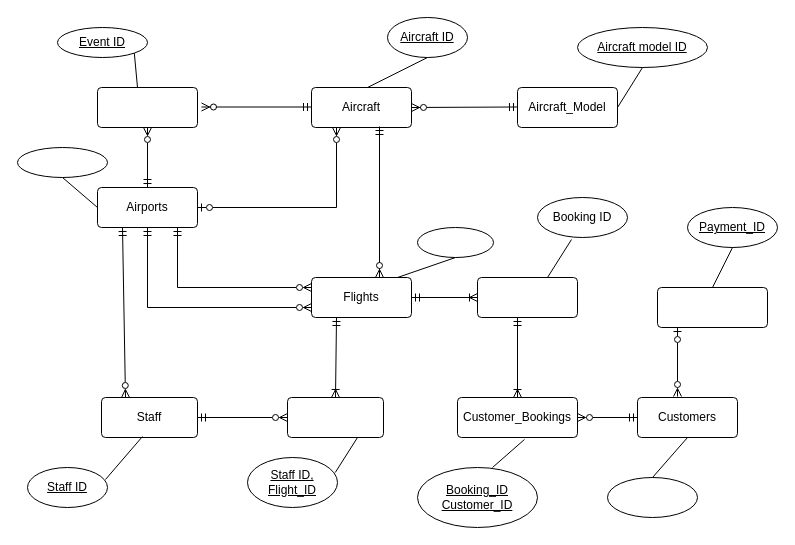
Image size: 795x545. Some labels were removed from this diagram. The shapes that lost their labels are listed below. From the top down, each one's centre as x and y in pixels, then its label:
(147,107): Maintenance
(62,162): Airport ID
(455,242): Flight ID
(527,297): Bookings
(712,307): Payment_Methods
(335,417): Flight_Staff
(652,497): Customer ID
